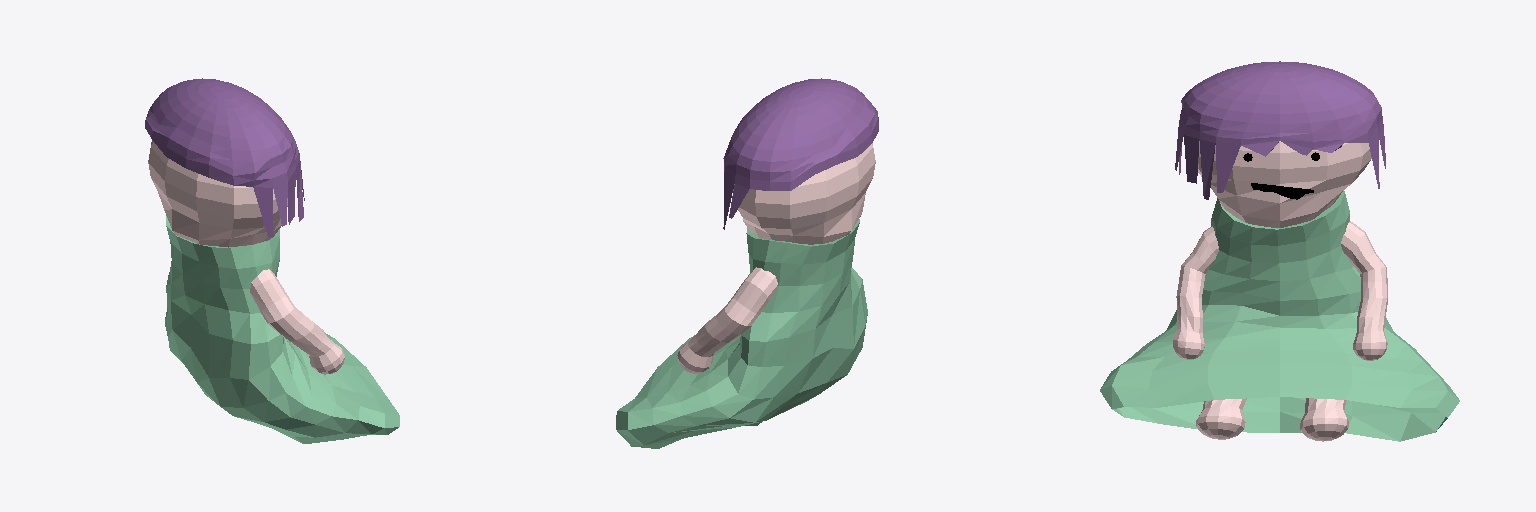
Rendered from doll.obj.
3 views of the same model, side by side, from view 1: azimuth 30°, elevation 25°; view 2: azimuth 150°, elevation 25°; view 3: azimuth 270°, elevation 25° (orthographic).
Parts seen in each view (by area): view 1: pCylinder1, pSphere2, pSphere1, pCylinder3; view 2: pCylinder1, pSphere2, pSphere1, pCylinder2; view 3: pCylinder1, pSphere2, pSphere1, pCylinder2, pCylinder3, pCylinder4, pCylinder5.
Part boxes in pixels (x1,y1,x2,y2): pCylinder1: (165,216,399,443); pSphere2: (145,78,304,236); pSphere1: (148,140,287,247); pCylinder3: (250,269,344,374); pCylinder1: (616,219,867,448); pSphere2: (723,78,878,229); pSphere1: (733,143,875,244); pCylinder2: (677,267,777,373); pCylinder1: (1100,190,1459,441); pSphere2: (1175,61,1385,199); pSphere1: (1198,141,1371,227); pCylinder2: (1341,221,1387,360); pCylinder3: (1173,226,1218,359); pCylinder4: (1300,398,1348,441); pCylinder5: (1196,398,1246,439).
Size of the model in its own units: 3.24 by 5.84 by 5.55.